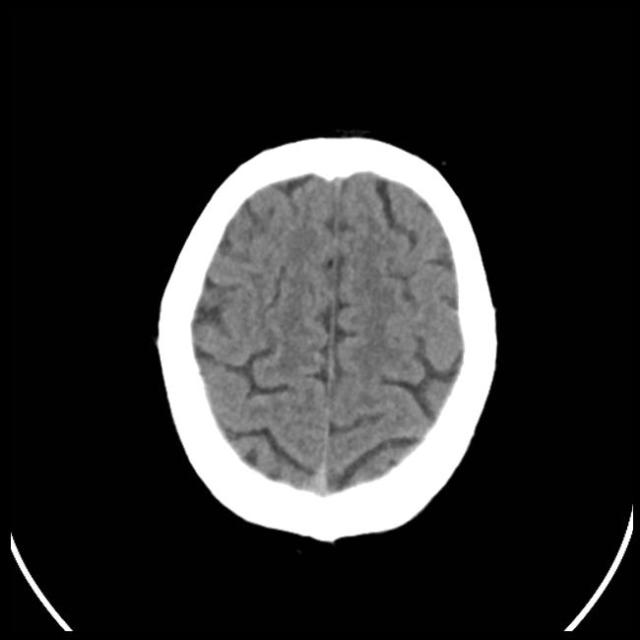lesion: (152, 129, 503, 546)
